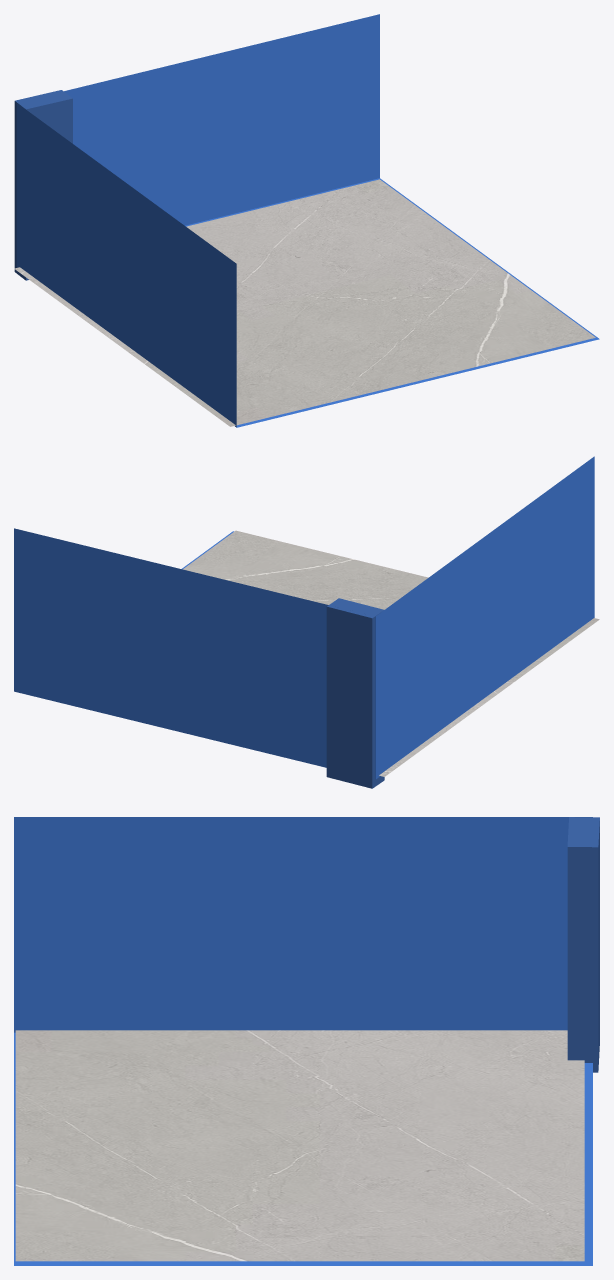
Rendered from oneday_3.glb.
The picture shows the model from 3 angles, top to bottom: view 1: azimuth 30°, elevation 25°; view 2: azimuth 150°, elevation 25°; view 3: azimuth 270°, elevation 25°; orthographic projection. The views are drawn at different scales.
Visible parts, largest first — view 1: Cube, Plane, Plane.001, Plane.011, Plane.012, Plane.016, Plane.002, Plane.005, Plane.006, Plane.015, Plane.017, Plane.018 (+12 smaller); view 2: Cube, เสา, Plane.013, Plane.001, Plane.002, Plane, Plane.005; view 3: Cube, Plane, เสา, Plane.004, Plane.005, Plane.006, Plane.008, Plane.014, Plane.016, Plane.001, Plane.002, Plane.012 (+19 smaller).
Boxes of the visible parts, bbox=[...] form: Cube: bbox=[16, 14, 599, 427]; Plane: bbox=[305, 285, 559, 364]; Plane.001: bbox=[487, 311, 595, 355]; Plane.011: bbox=[307, 179, 415, 223]; Plane.012: bbox=[268, 365, 376, 408]; Plane.016: bbox=[342, 276, 450, 320]; Plane.002: bbox=[341, 347, 449, 390]; Plane.005: bbox=[378, 303, 486, 346]; Plane.006: bbox=[415, 258, 523, 302]; Plane.015: bbox=[306, 250, 414, 293]; Plane.017: bbox=[379, 232, 487, 276]; Plane.018: bbox=[343, 206, 451, 249]; Cube: bbox=[14, 456, 594, 779]; เสา: bbox=[326, 598, 384, 788]; Plane.013: bbox=[273, 548, 380, 592]; Plane.001: bbox=[200, 530, 307, 574]; Plane.002: bbox=[346, 566, 428, 603]; Plane: bbox=[183, 557, 392, 609]; Plane.005: bbox=[256, 574, 344, 604]; Cube: bbox=[14, 817, 592, 1265]; Plane: bbox=[110, 1120, 205, 1261]; เสา: bbox=[567, 817, 599, 1072]; Plane.004: bbox=[110, 1073, 205, 1120]; Plane.005: bbox=[110, 1167, 205, 1214]; Plane.006: bbox=[205, 1214, 300, 1261]; Plane.008: bbox=[205, 1120, 300, 1167]; Plane.014: bbox=[205, 1073, 300, 1120]; Plane.016: bbox=[205, 1167, 300, 1214]; Plane.001: bbox=[15, 1214, 110, 1261]; Plane.002: bbox=[15, 1120, 110, 1167]; Plane.012: bbox=[15, 1073, 110, 1120].
Size of the model in its own units: 4.41 by 1.96 by 4.61.
Materials: 31 (29 with a texture image).
